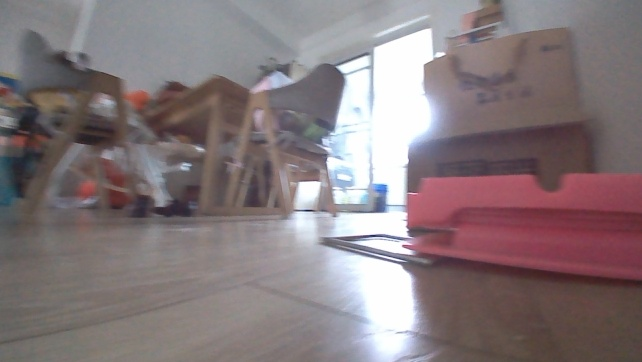dining_table: (9, 27, 346, 220)
